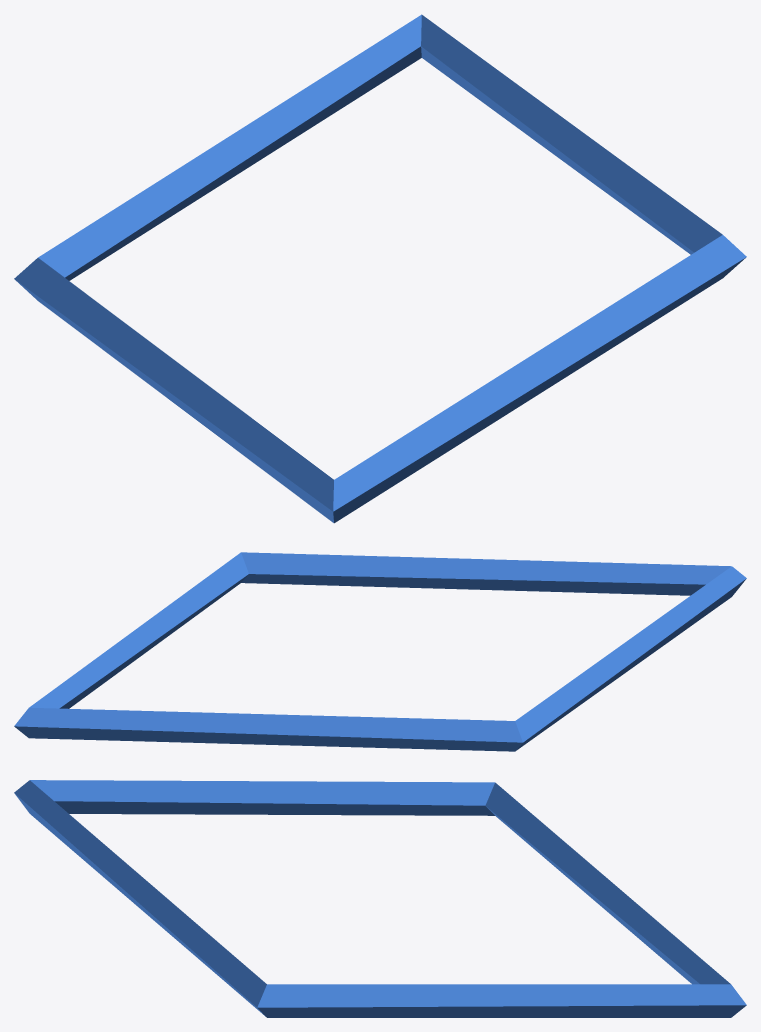
Rendered from s四边形.fbx.
3 renders of one model, top to bottom at view 1: azimuth 30°, elevation 25°; view 2: azimuth 150°, elevation 25°; view 3: azimuth 270°, elevation 25°, orthographic. The views are drawn at different scales.
Visible parts, largest first — view 1: Plane; view 2: Plane; view 3: Plane.
Part boxes in pixels (bbox=[...]): Plane: bbox=[14, 14, 746, 523]; Plane: bbox=[14, 552, 746, 751]; Plane: bbox=[14, 780, 746, 1017].
Size of the model in its own units: 219 by 16 by 316.
